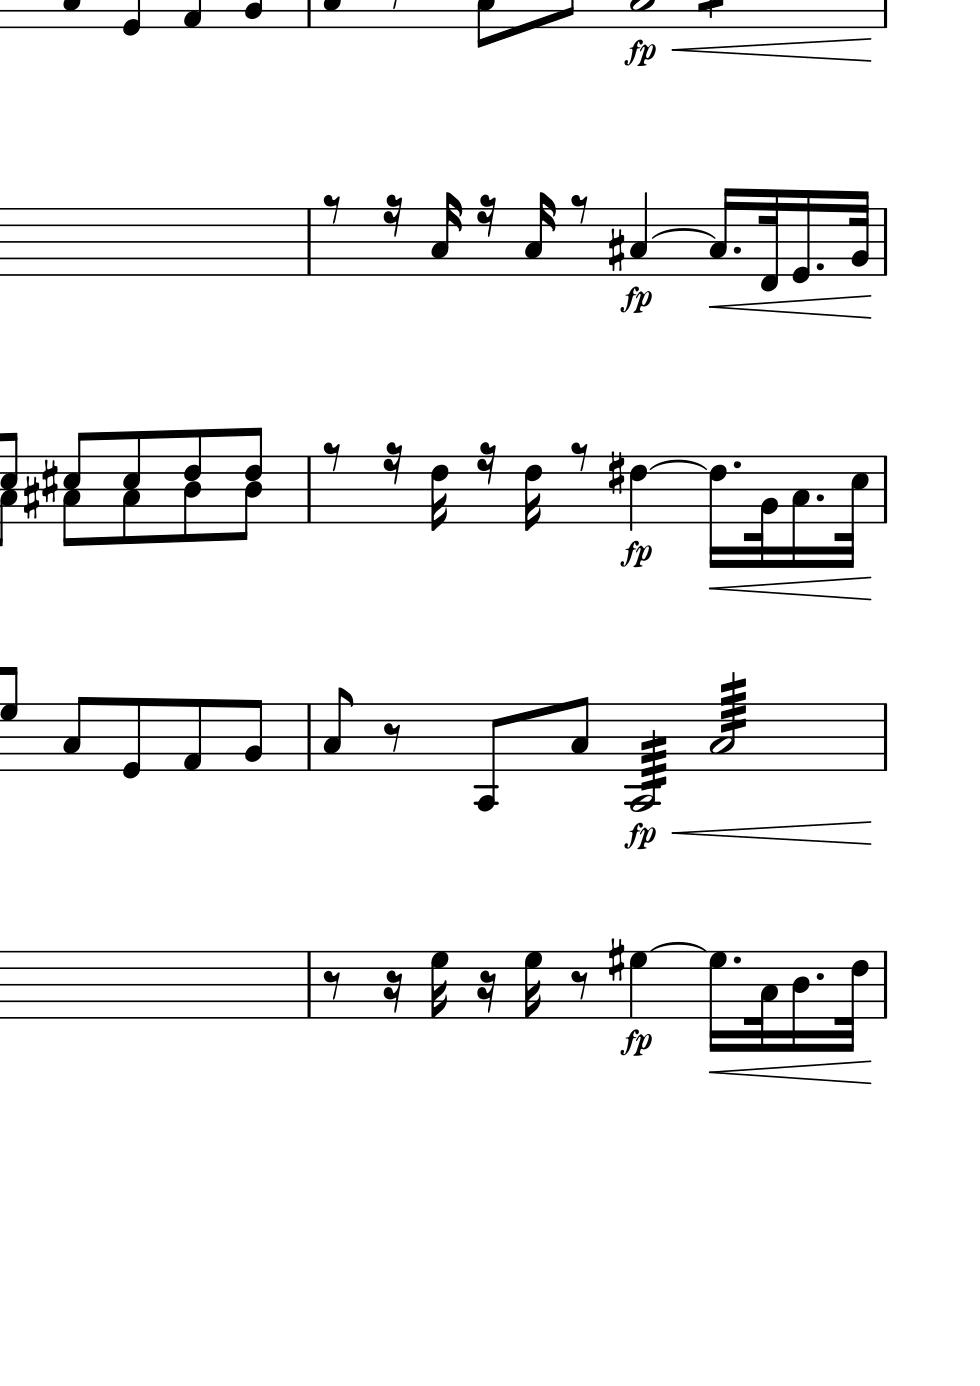16_0: (790, 187, 812, 285)
16_3: (431, 192, 463, 278), (523, 191, 555, 277), (789, 452, 811, 571), (708, 185, 735, 276)
16_4: (789, 948, 811, 1055)
16_6: (707, 453, 730, 571), (521, 453, 543, 533), (428, 453, 450, 533)
16_7: (706, 948, 728, 1055), (521, 949, 543, 1022), (428, 949, 450, 1021)
32_-1: (757, 185, 780, 293)
32_2: (743, 454, 778, 571), (848, 189, 871, 278)
32_3: (743, 948, 778, 1053)
32_5: (834, 453, 870, 571)
32_6: (836, 947, 870, 1053)
4_3: (628, 190, 651, 276)
4_6: (627, 452, 650, 534)
4_7: (627, 950, 651, 1021)
8_-4: (474, 701, 502, 812)
8_0: (119, 695, 144, 780)
8_1: (179, 696, 205, 774)
8_2: (242, 697, 266, 773)
8_3: (322, 686, 353, 772), (62, 694, 90, 773), (568, 695, 590, 773)
8_3_5: (62, 431, 89, 547), (121, 429, 142, 545)
8_4_6: (240, 427, 265, 542), (182, 428, 205, 542)
Crescendo_hairpin: (673, 819, 873, 846), (670, 37, 871, 62), (708, 576, 872, 602), (708, 295, 871, 319), (711, 1060, 871, 1083)
Rests16: (381, 441, 407, 488), (381, 193, 406, 240), (475, 192, 498, 239), (475, 441, 498, 487), (381, 969, 404, 1015), (475, 969, 497, 1013)
Rests8: (380, 720, 405, 755), (321, 189, 344, 225), (568, 438, 591, 474), (568, 191, 592, 225), (568, 968, 591, 1003), (321, 437, 343, 472), (321, 968, 343, 1003)
Sharp: (605, 225, 626, 274), (605, 449, 626, 496), (606, 937, 626, 983)
Single_barline: (876, 704, 894, 770), (876, 951, 893, 1019), (300, 456, 317, 522), (877, 208, 893, 277), (877, 456, 893, 524), (301, 951, 317, 1018), (301, 209, 317, 274), (301, 704, 317, 769)
Slur: (648, 941, 703, 953), (651, 227, 714, 236), (649, 458, 705, 469)
Stem: (622, 702, 667, 815), (710, 672, 750, 769)
dot: (729, 457, 743, 472), (813, 260, 827, 273), (730, 953, 742, 967), (813, 970, 826, 983), (731, 244, 742, 257), (813, 492, 826, 504)
fp: (618, 537, 654, 571), (622, 39, 657, 70)
p: (622, 821, 657, 852)
pp: (617, 285, 653, 317), (618, 1028, 652, 1059)
